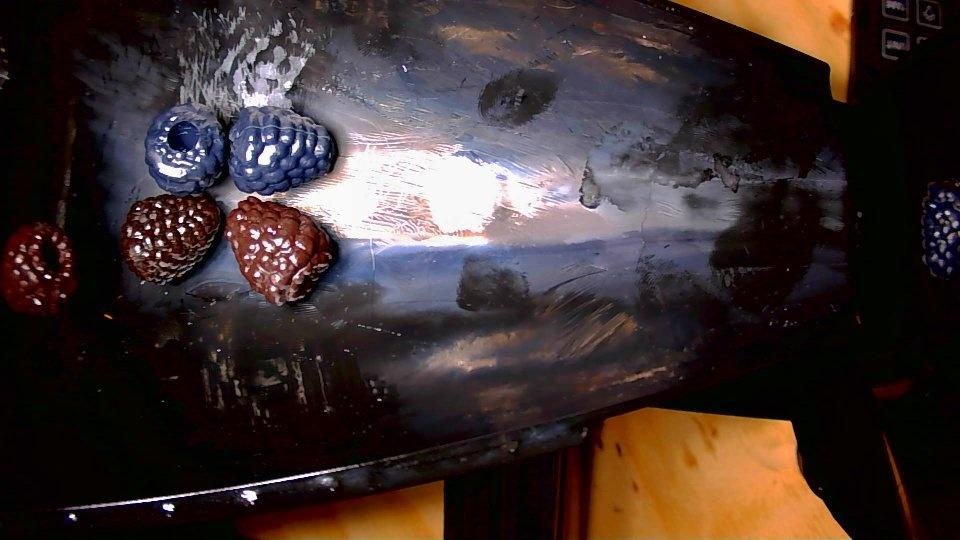berry: (225, 196, 332, 305), (229, 107, 336, 195), (121, 194, 221, 284), (145, 104, 225, 195), (0, 222, 77, 314), (920, 181, 959, 279)
